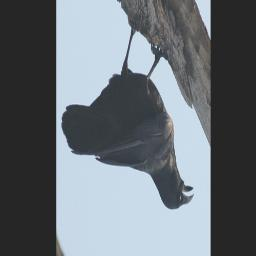Crow: (61, 17, 196, 212)
